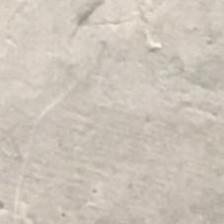Non_Crack: (4, 77, 218, 209)
